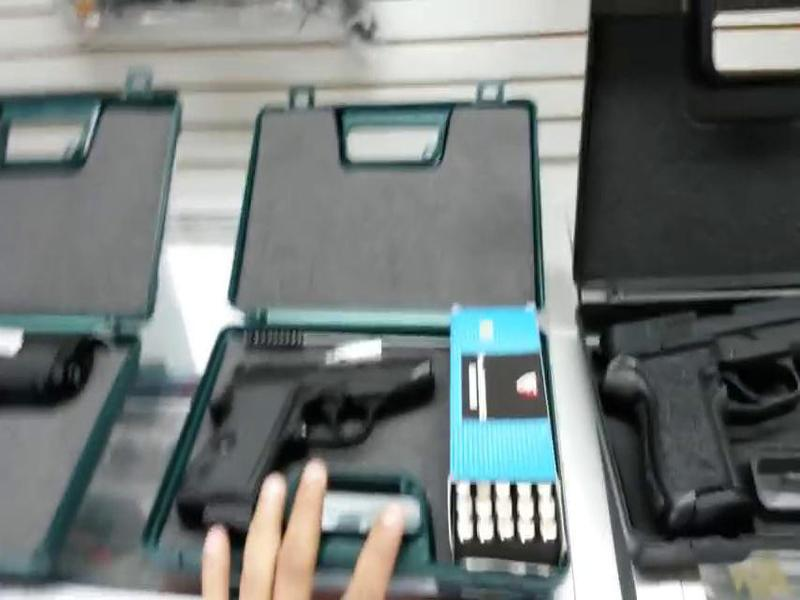Pistola: (168, 339, 460, 528), (595, 280, 800, 539)
